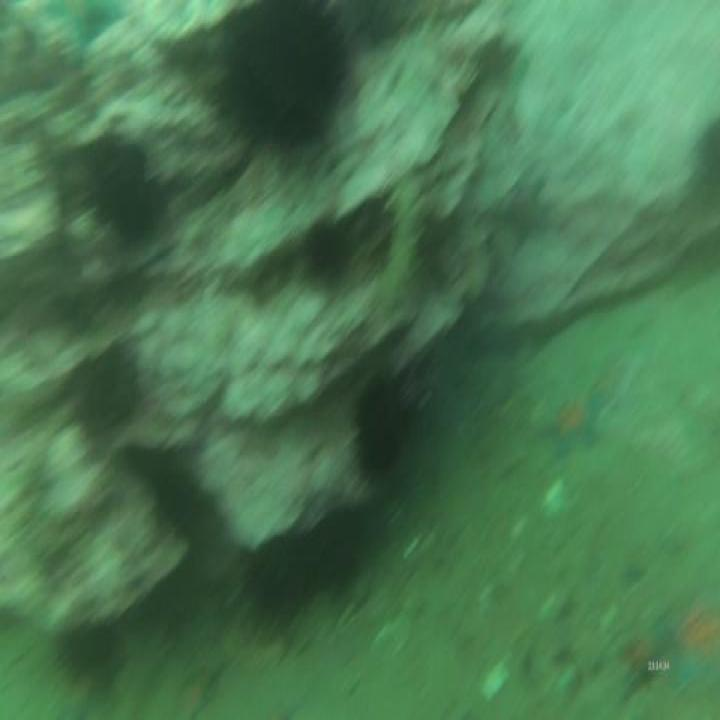echinus: (215, 0, 353, 164), (85, 130, 163, 256), (350, 364, 412, 486), (247, 526, 302, 640), (305, 500, 364, 604), (52, 617, 122, 691), (305, 209, 351, 292)
holothurian: (378, 169, 429, 325)
starfish: (657, 580, 720, 704), (535, 374, 607, 470), (180, 656, 225, 718)
